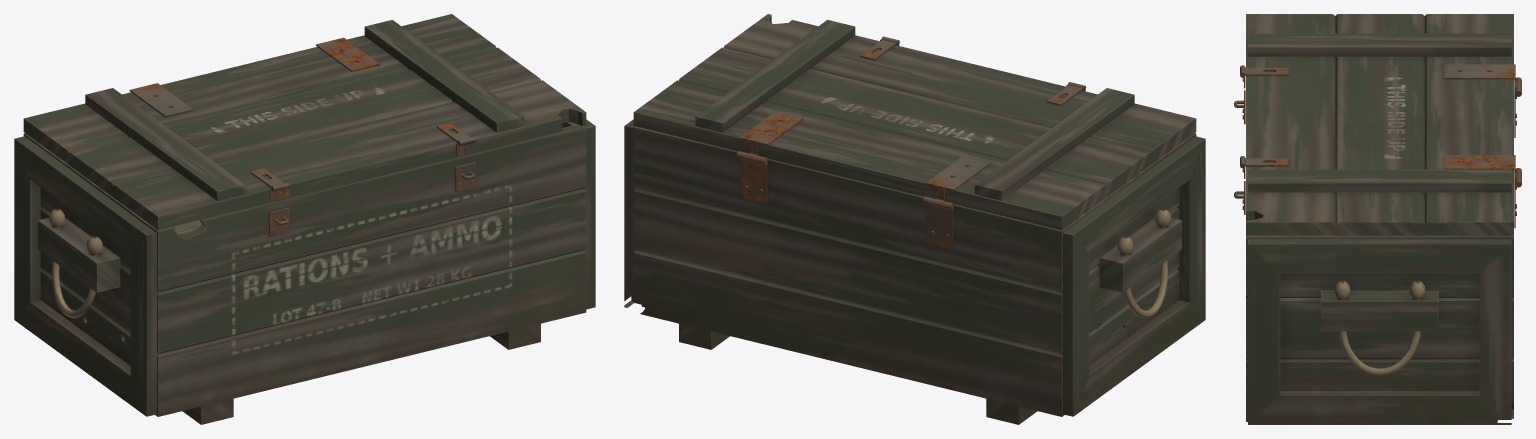
File: SupplyCrate.glb
3 renders of one model, left to right at view 1: azimuth 30°, elevation 25°; view 2: azimuth 150°, elevation 25°; view 3: azimuth 270°, elevation 25°, orthographic.
Parts seen in each view (by area): view 1: Crate, Crate_Lid; view 2: Crate, Crate_Lid; view 3: Crate_Lid, Crate.
Part boxes in pixels (x1=…): Crate: x1=14, y1=119, x2=595, y2=424; Crate_Lid: x1=23, y1=14, x2=586, y2=229; Crate: x1=624, y1=119, x2=1205, y2=424; Crate_Lid: x1=633, y1=14, x2=1196, y2=229; Crate_Lid: x1=1240, y1=14, x2=1521, y2=235; Crate: x1=1234, y1=77, x2=1521, y2=424.
Size of the model in its own units: 1.03 by 0.471 by 0.537.
Materials: 2 (2 with a texture image).
